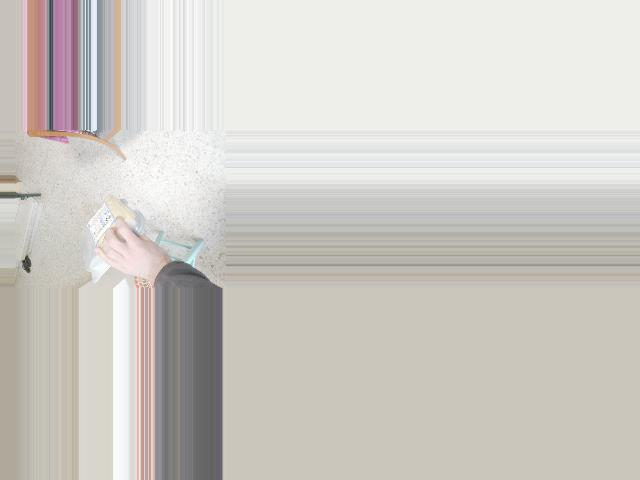cheese: (85, 184, 128, 283)
